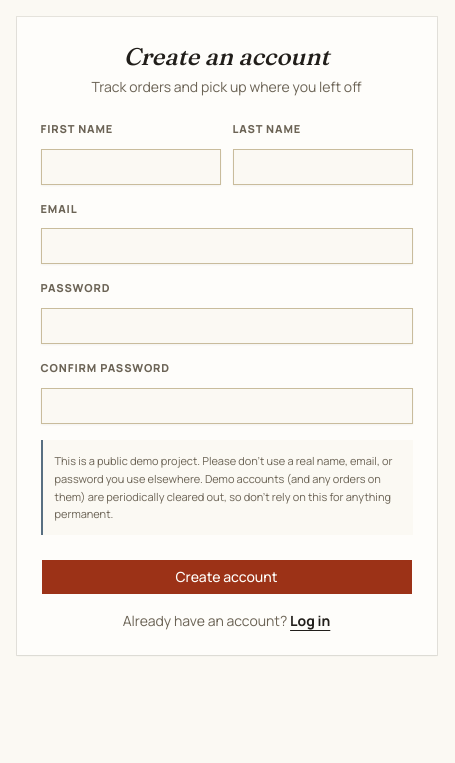
Test: RegisterForm › shows validation errors when submitted empty
Click the button "Create account".
click(226, 577)  # box x1=40 y1=559 x2=412 y2=595
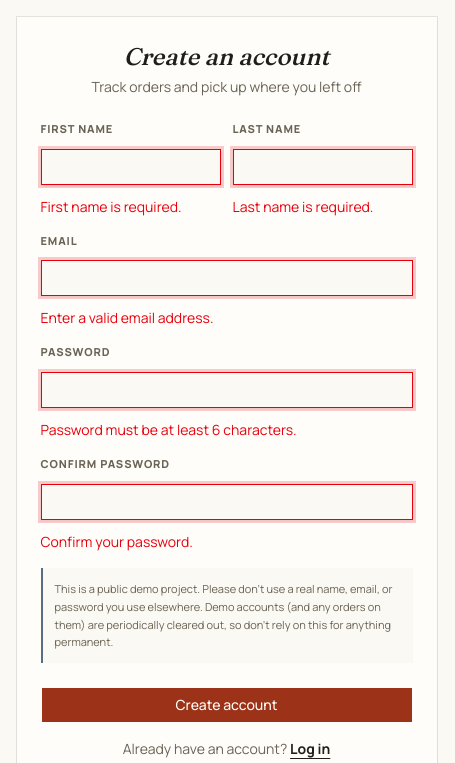
Expected: the text "First name is required." is shown, x1=40 y1=197 x2=182 y2=216
